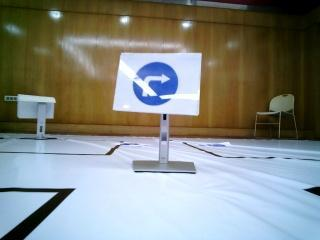right: (115, 52, 192, 115)
